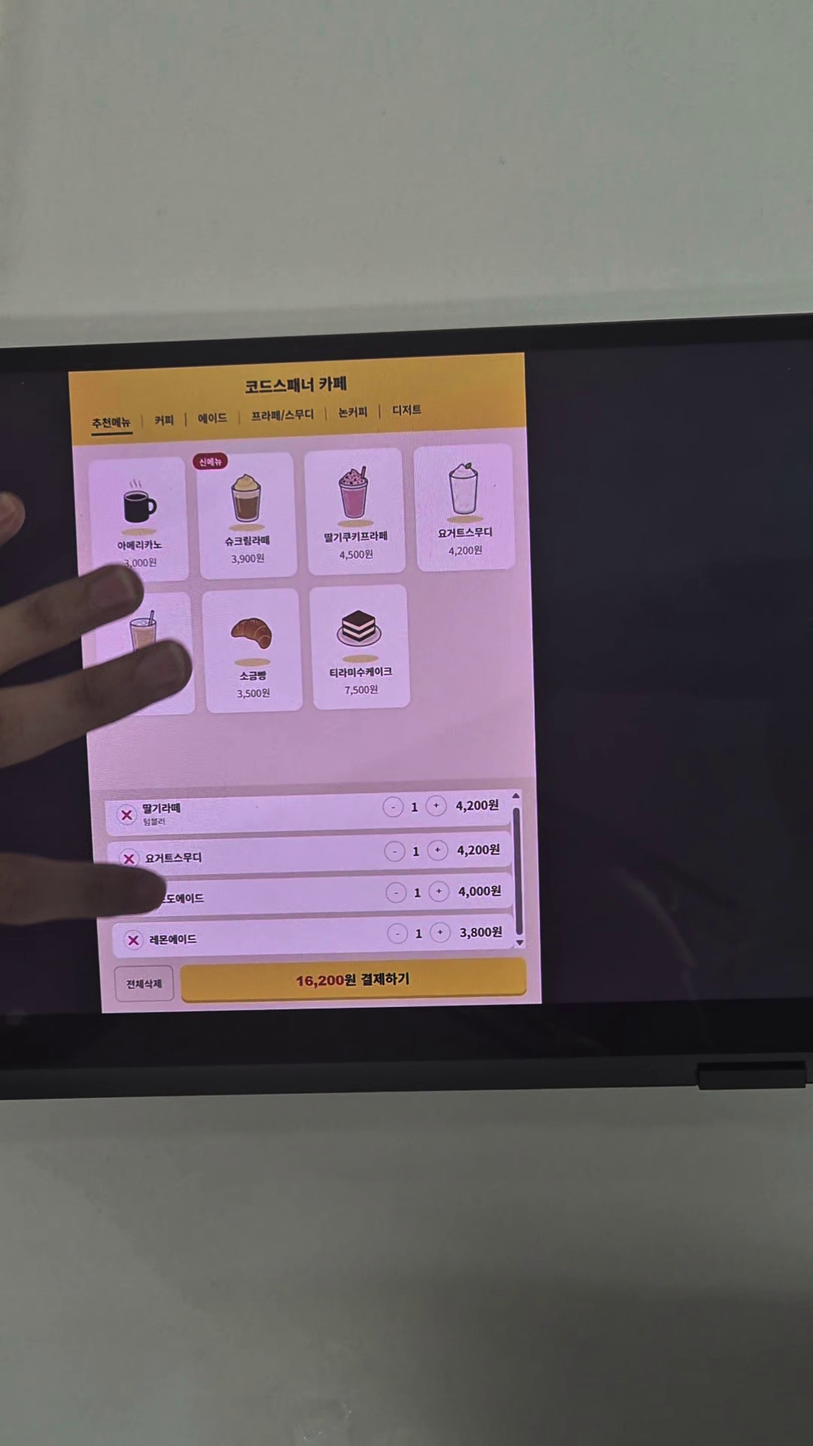action_button: (179, 957, 527, 1004), (114, 965, 175, 1002)
cart_item: (105, 790, 510, 837), (107, 831, 512, 877), (110, 873, 513, 918), (112, 914, 515, 959)
category_tab: (250, 408, 315, 423), (91, 416, 132, 429), (392, 403, 422, 417), (337, 406, 368, 419), (197, 412, 228, 424), (153, 414, 175, 427)
menu_back: (413, 443, 516, 572), (304, 447, 406, 576), (196, 452, 298, 580), (309, 584, 411, 710), (94, 591, 195, 717), (89, 457, 189, 584), (202, 588, 303, 713)
menu_name: (323, 530, 389, 544), (328, 666, 393, 679), (437, 526, 493, 539), (116, 539, 163, 552), (224, 535, 271, 547), (239, 669, 267, 682)
menu_price: (447, 544, 484, 558), (235, 687, 271, 700), (343, 683, 379, 696), (230, 553, 265, 566), (338, 549, 374, 561)
